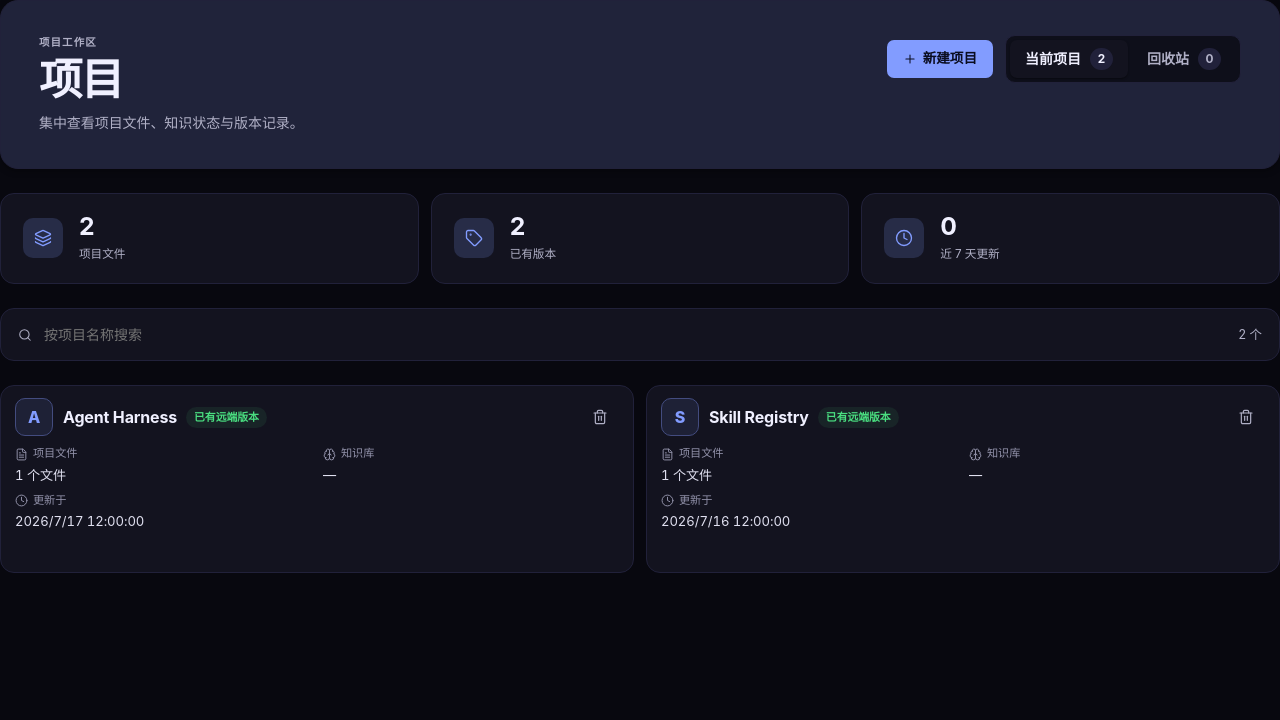
Test: ProjectRegistry list UX › filters by project name and closes the confirm dialog with Escape
Expected: the heading "Agent Harness" is shown, [63,407,177,428]
Type "Skill Registry" into the field labelled "按项目名称搜索". click: (340, 335)
box: [42,323,638,346]
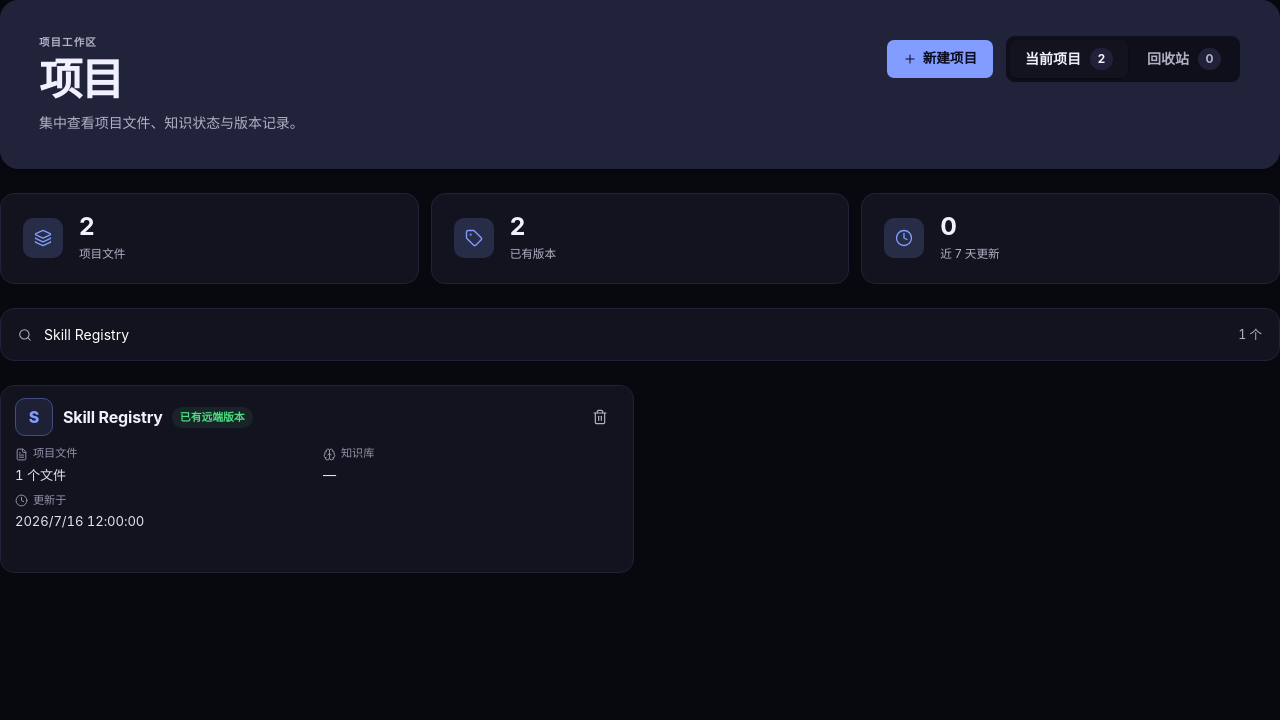
Expected: the heading "Skill Registry" is shown, [63,407,163,428]
Result: the heading "Agent Harness" is gone
Clear the field named "搜索项目". click: (340, 335)
box: [42,323,638,346]
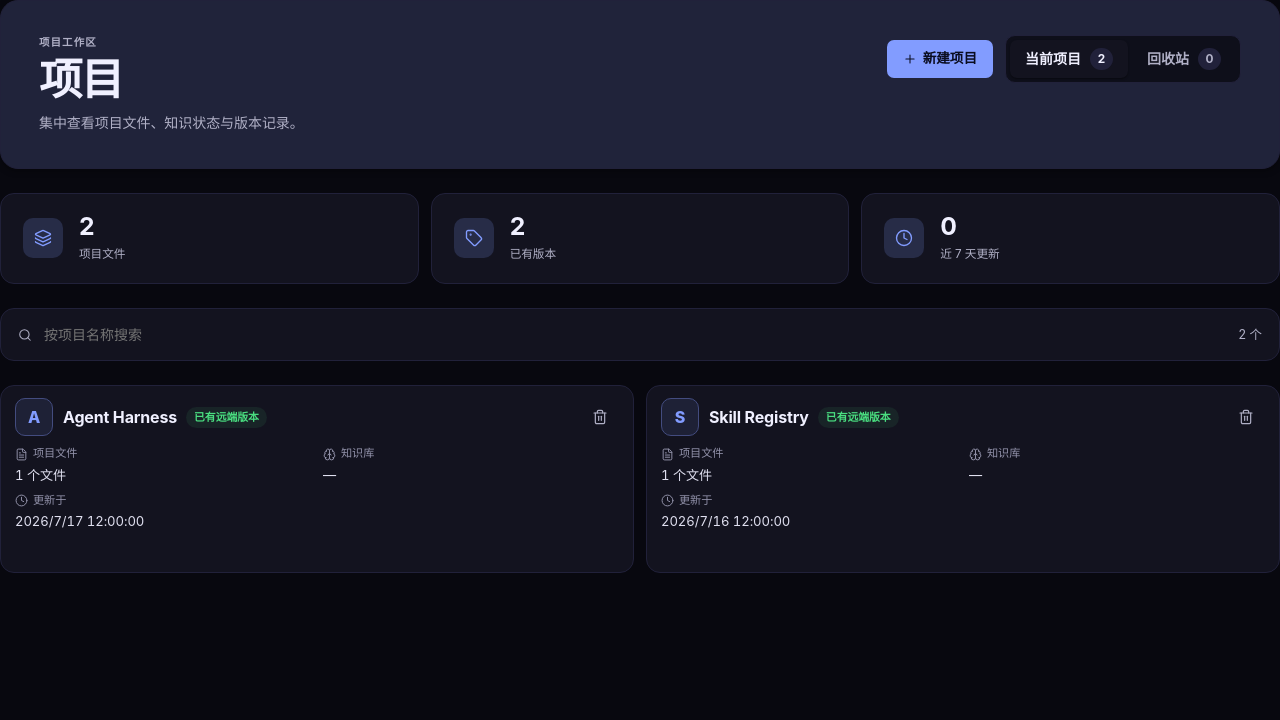
Click the button named "移到回收站" in the row of "Agent Harness". click: (600, 417)
box: [581,398,619,436]
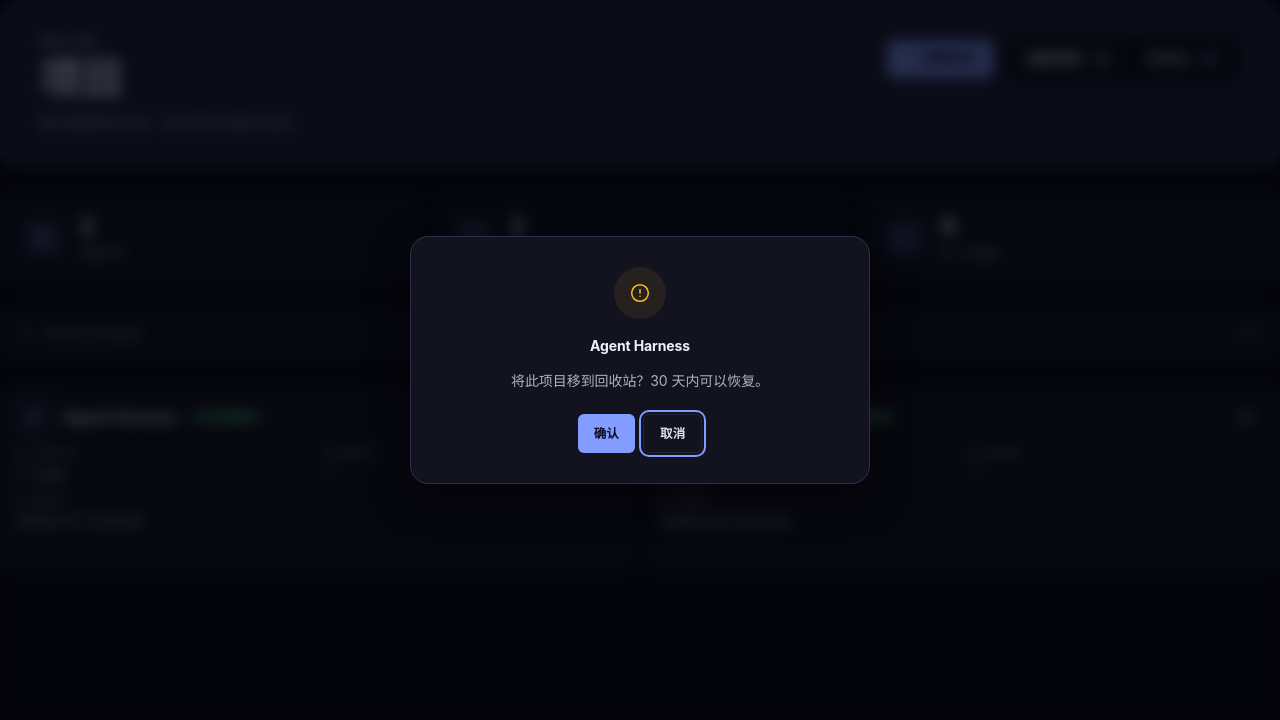
Result: the dialog is shown at [410,236,870,484]
Press Escape
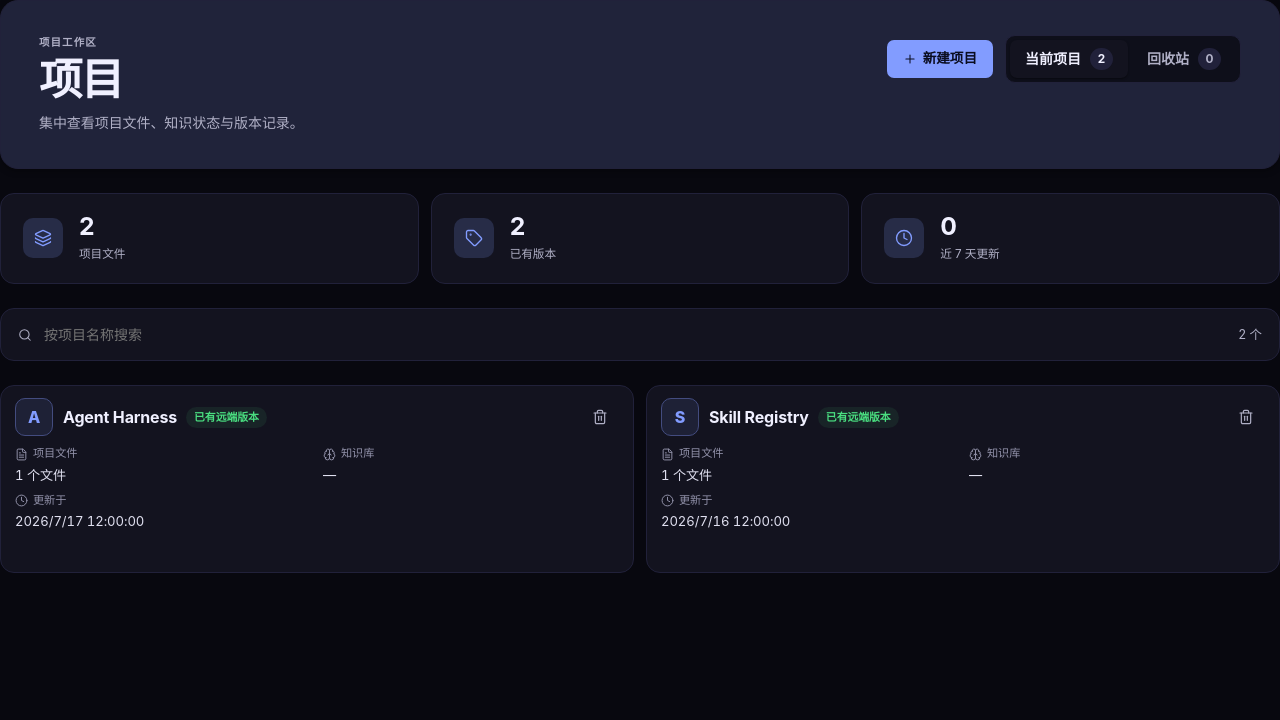
Result: the dialog is gone
